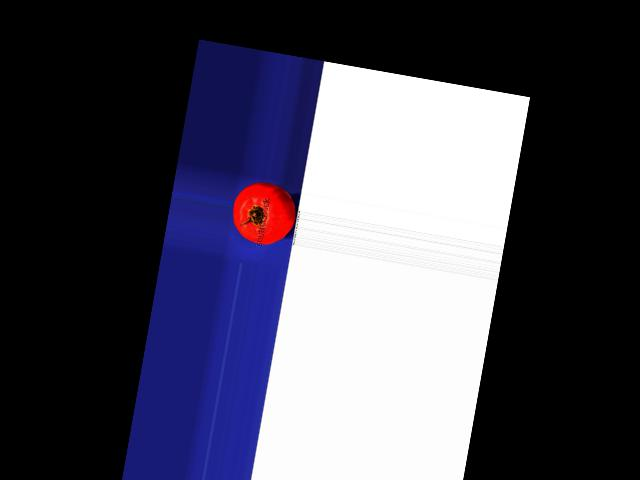tomato: (228, 177, 299, 248)
